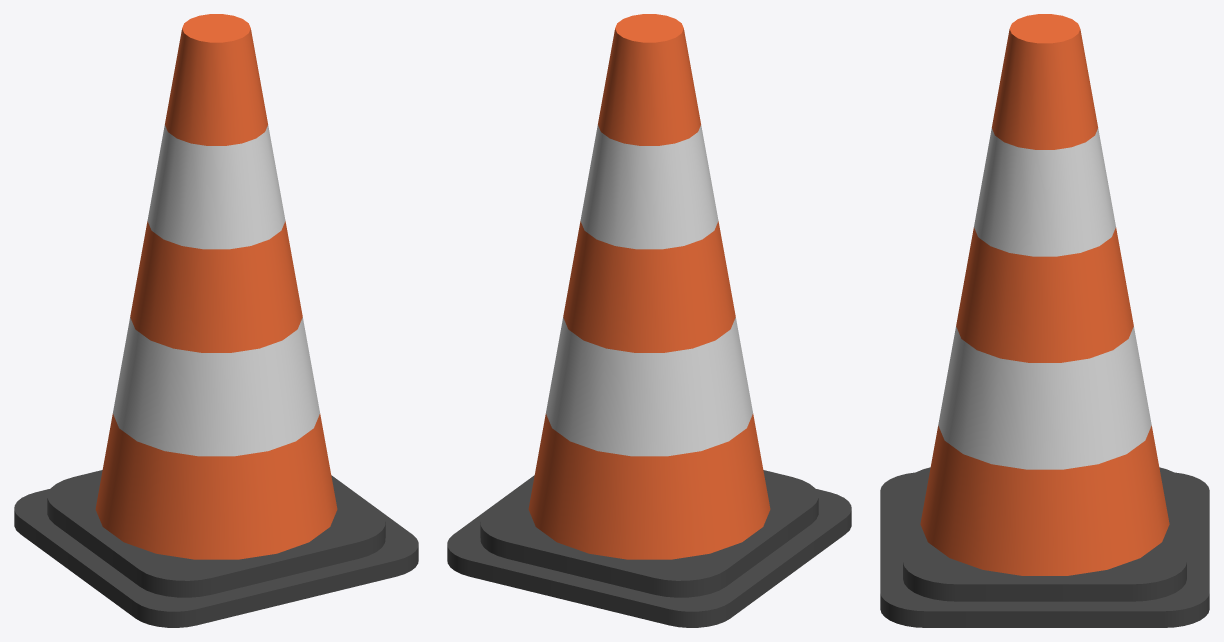
The picture shows the model from 3 angles, left to right: view 1: azimuth 30°, elevation 25°; view 2: azimuth 150°, elevation 25°; view 3: azimuth 270°, elevation 25°; orthographic projection. The views are drawn at different scales.
Parts seen in each view (by area): view 1: Cone A; view 2: Cone A; view 3: Cone A.
Part boxes in pixels (bbox=[...]): Cone A: bbox=[14, 14, 418, 627]; Cone A: bbox=[447, 14, 851, 627]; Cone A: bbox=[880, 14, 1209, 627].
Bounding box in the file's own units: 77.71 × 138 × 77.71.
